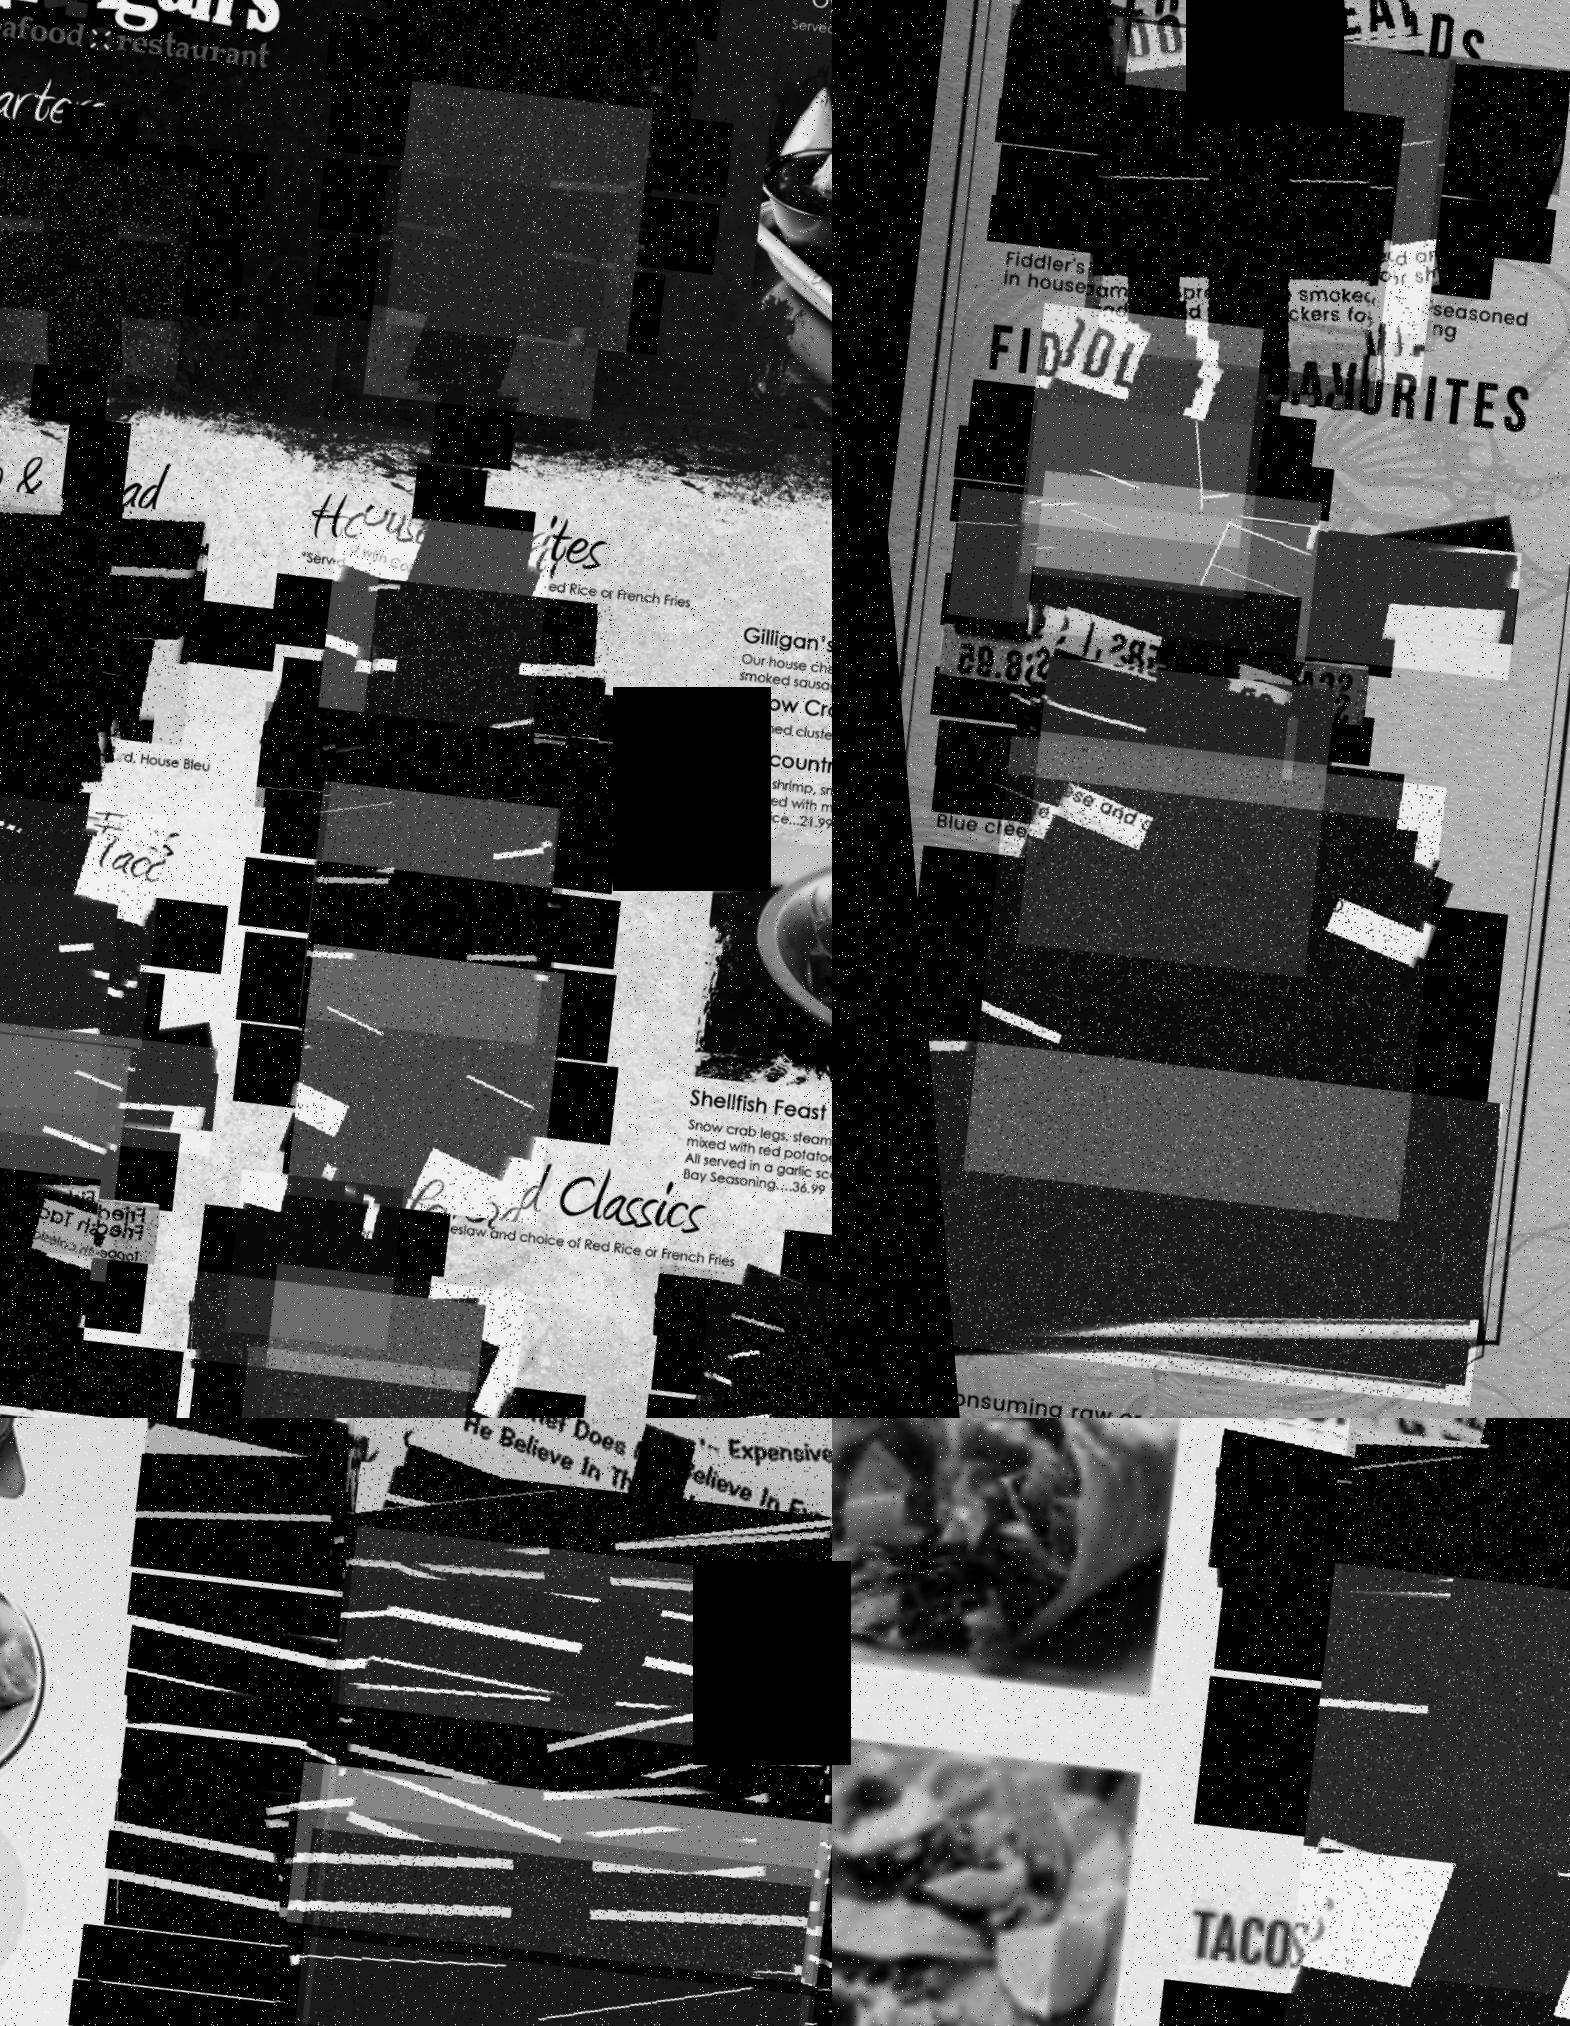Menu-Items: (255, 1445, 832, 2026), (255, 1418, 832, 1995), (255, 1511, 832, 2026), (265, 1418, 832, 1940), (907, 712, 1452, 1253), (238, 1552, 832, 2026), (903, 993, 1494, 1418), (107, 1556, 832, 1883), (117, 1418, 832, 1745), (187, 1681, 832, 2026), (81, 1745, 832, 2026), (242, 1669, 832, 2026), (191, 1745, 832, 2026), (1060, 7, 1468, 414), (1236, 1551, 1570, 2026), (921, 456, 1512, 722), (1264, 1418, 1570, 1906), (1057, 0, 1466, 362), (980, 0, 1570, 238), (1044, 69, 1412, 437), (205, 1812, 829, 2026), (975, 641, 1333, 1000), (977, 457, 1323, 803), (963, 553, 1300, 888), (1179, 1418, 1570, 1699), (248, 937, 562, 1250), (368, 0, 682, 304), (253, 853, 561, 1159), (362, 77, 664, 380), (263, 775, 559, 1071), (321, 574, 616, 868), (281, 710, 566, 993), (340, 166, 623, 446), (986, 337, 1269, 617), (232, 687, 630, 885), (911, 692, 1386, 853), (990, 293, 1264, 566), (978, 388, 1251, 659), (289, 505, 556, 770), (1205, 1834, 1570, 2026), (916, 597, 1353, 756), (316, 0, 704, 158), (0, 477, 210, 765), (0, 140, 205, 398), (205, 1255, 516, 1418), (153, 1260, 465, 1418), (0, 776, 166, 1066), (0, 99, 270, 273), (360, 0, 676, 148), (0, 978, 207, 1184), (189, 1166, 391, 1367), (0, 1010, 125, 1299), (0, 562, 132, 811), (0, 475, 205, 631), (0, 858, 115, 1133), (621, 1261, 832, 1391), (649, 1271, 832, 1418), (0, 1140, 92, 1418), (181, 1339, 459, 1418), (0, 1284, 163, 1418), (0, 1145, 141, 1288), (663, 1312, 832, 1418)
